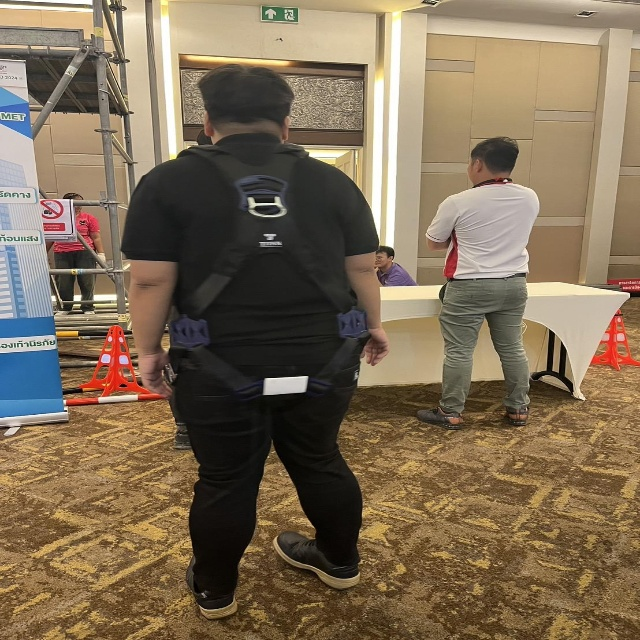Arnes_seguridad: (172, 135, 372, 414)
